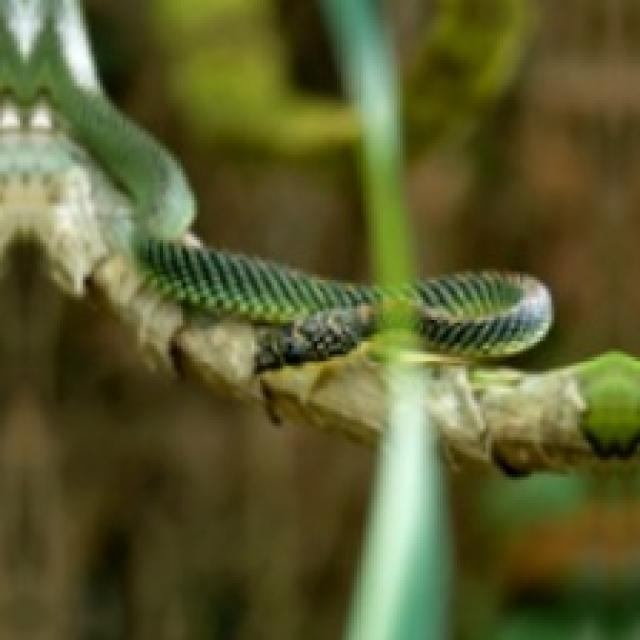paradise tree snake: (260, 0, 637, 637), (0, 0, 374, 394), (0, 0, 389, 377), (400, 271, 549, 354), (423, 274, 549, 354)
